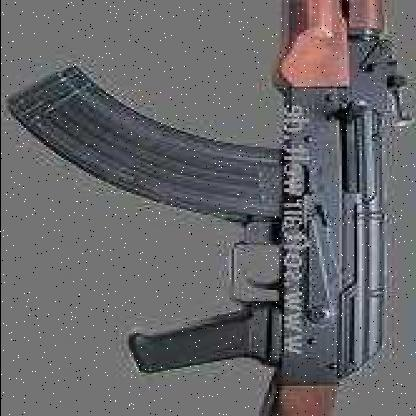rifle: (5, 0, 401, 414)
